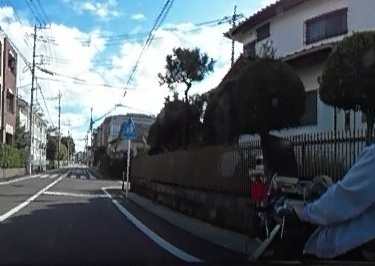person: (281, 65, 375, 251)
